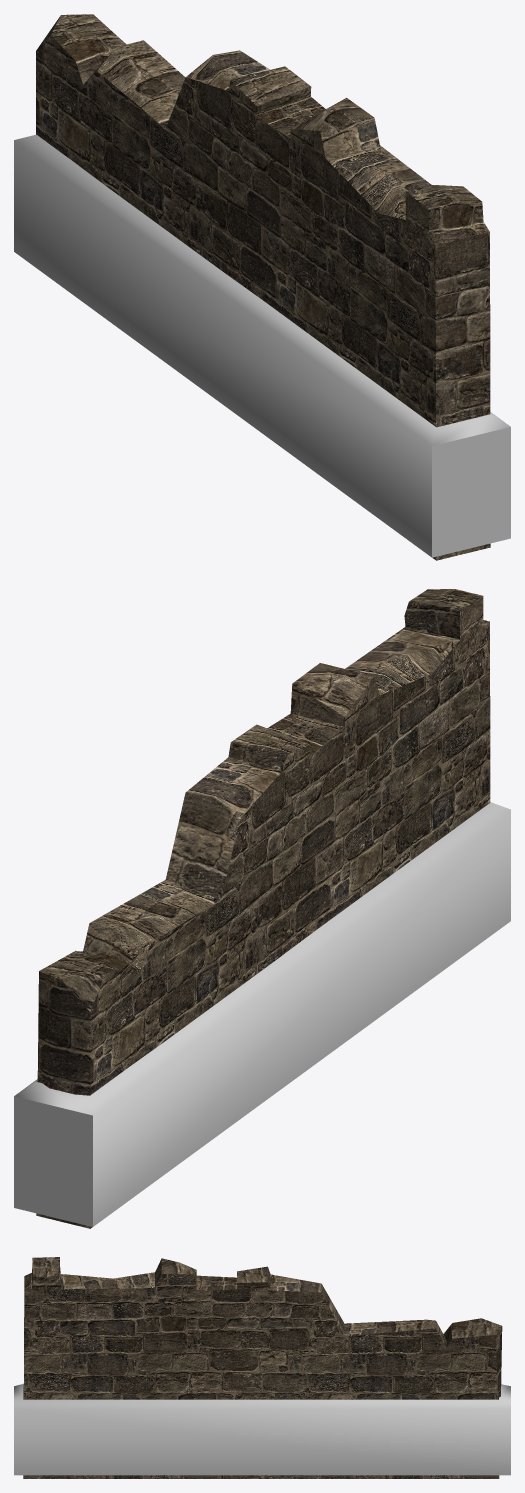
Rendered from SM_EN_2008_canqiang04.FBX.
3 renders of one model, top to bottom at view 1: azimuth 30°, elevation 25°; view 2: azimuth 150°, elevation 25°; view 3: azimuth 270°, elevation 25°, orthographic. The views are drawn at different scales.
Visible parts, largest first — view 1: SM_EN_2008_canqiang0402, SM_EN_2008_canqiang0401; view 2: SM_EN_2008_canqiang0402, SM_EN_2008_canqiang0401; view 3: SM_EN_2008_canqiang0402, SM_EN_2008_canqiang0401.
Boxes of the visible parts, bbox=[...] form: SM_EN_2008_canqiang0402: bbox=[36, 14, 490, 560]; SM_EN_2008_canqiang0401: bbox=[14, 134, 510, 557]; SM_EN_2008_canqiang0402: bbox=[36, 589, 490, 1228]; SM_EN_2008_canqiang0401: bbox=[14, 802, 510, 1226]; SM_EN_2008_canqiang0402: bbox=[23, 1257, 502, 1478]; SM_EN_2008_canqiang0401: bbox=[14, 1383, 510, 1475].
Bounding box in the file's own units: 22.69 × 96.34 × 208.
